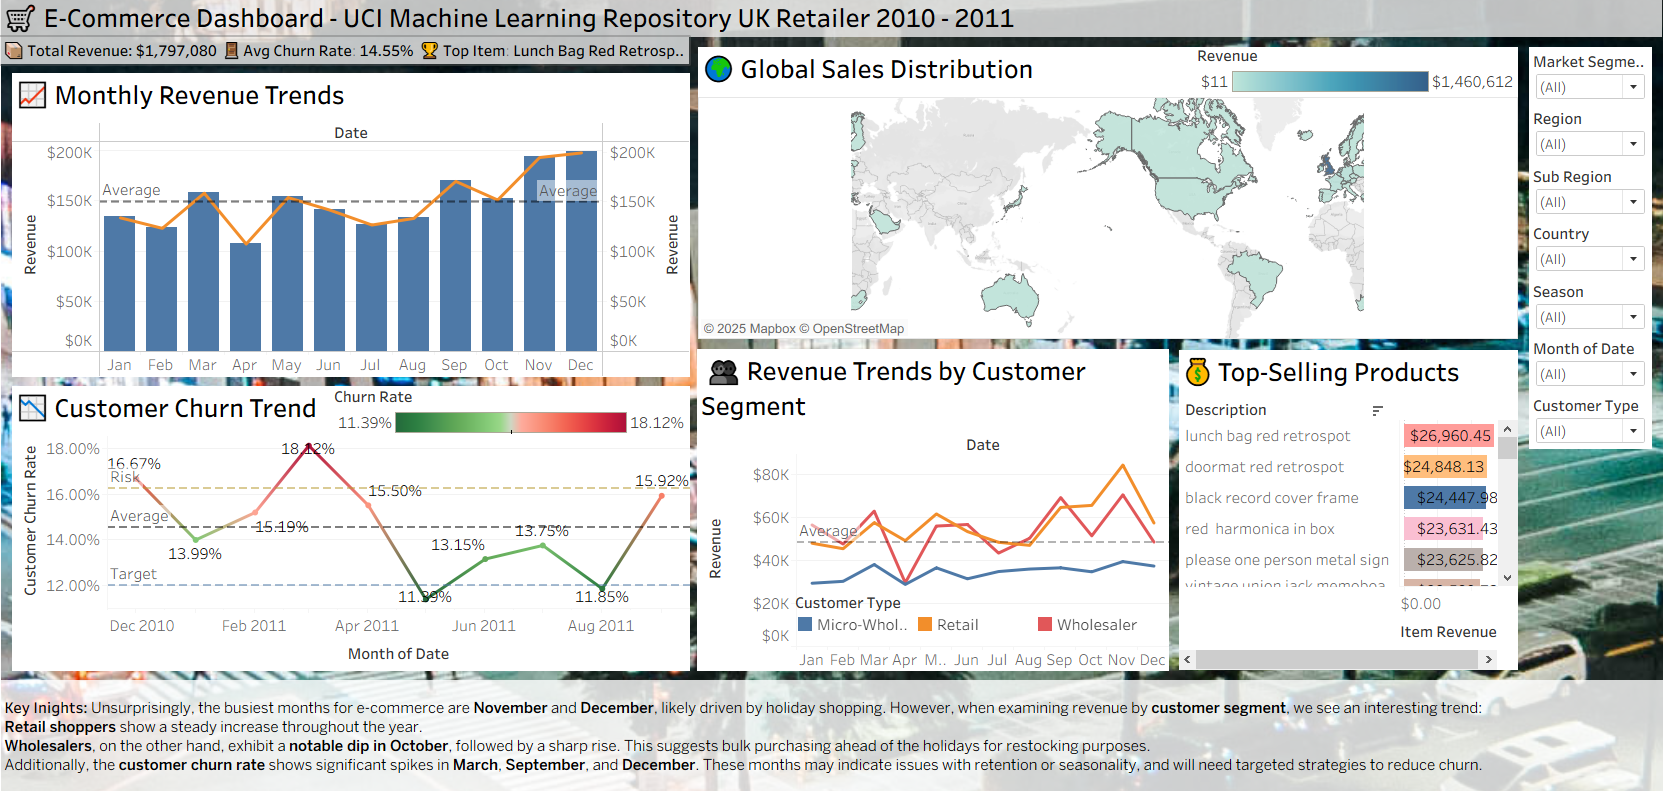

This screenshot's page, from the dashboard's own definition file:
{"tool":"tableau","page":{"name":"🛒 E-Commerce Dashboard - UCI Machine Learning Repository UK Retailer 2010 - 2011","canvas":[1000,1000],"units":"permille","ordinal":0},"visuals":[{"type":"title","box":[24.4,49.5,951,60.7]},{"type":"text","box":[24.4,110.2,951,35.9]},{"type":"text","box":[24.4,146.2,951,106.6]},{"type":"worksheet","title":"📈 Monthly Revenue Trends","mark":"Bar","rows":["total_spend","total_spend"],"cols":["invoice_date"],"box":[24.4,252.7,464.4,379]},{"type":"worksheet","title":"🌍 Global Sales Distribution","mark":"Automatic","box":[488.8,252.7,326.3,379]},{"type":"legend","title":"🌍 Global Sales Distribution","param":"[federated.0k7yjkx0o3joxv12v7ofb1jo00rf].[sum:total_spend:qk]","box":[815.1,252.7,62,379]},{"type":"filter","title":"📈 Monthly Revenue Trends","param":"[federated.0k7yjkx0o3joxv12v7ofb1jo00rf].[none:Calculation_551409513099952131:nk","box":[880.2,258.9,92.1,72.5]},{"type":"filter","title":"📈 Monthly Revenue Trends","param":"[federated.0k7yjkx0o3joxv12v7ofb1jo00rf].[none:region:nk]","box":[880.2,331.4,92.1,72.5]},{"type":"filter","title":"📈 Monthly Revenue Trends","param":"[federated.0k7yjkx0o3joxv12v7ofb1jo00rf].[none:sub_region:nk]","box":[880.2,403.9,92.1,72.5]},{"type":"filter","title":"📈 Monthly Revenue Trends","param":"[federated.0k7yjkx0o3joxv12v7ofb1jo00rf].[none:country:nk]","box":[880.2,476.4,92.1,72.5]},{"type":"filter","title":"📈 Monthly Revenue Trends","param":"[federated.0k7yjkx0o3joxv12v7ofb1jo00rf].[none:customer_type:nk]","box":[880.2,548.9,92.1,72.5]},{"type":"filter","title":"👥 Revenue Trends by Customer Segment","param":"[federated.0k7yjkx0o3joxv12v7ofb1jo00rf].[none:region:nk]","box":[880.2,621.4,92.1,72.5]},{"type":"worksheet","title":"📉 Customer Churn Trend","mark":"Automatic","rows":["Calculation_551409513081085952"],"cols":["invoice_date"],"box":[24.4,631.8,288.8,358.3]},{"type":"legend","title":"📉 Customer Churn Trend","param":"[federated.0k7yjkx0o3joxv12v7ofb1jo00rf].[usr:Calculation_551409513081085952:qk]","box":[313.2,631.8,79.3,182.8]},{"type":"worksheet","title":"👥 Revenue Trends by Customer Segment","mark":"Line","rows":["total_spend"],"cols":["invoice_date"],"box":[392.5,631.8,230.8,358.3]},{"type":"worksheet","title":"💰 Top-Selling Products","mark":"Automatic","rows":["description"],"cols":["total_spend"],"box":[623.3,631.8,253.8,358.3]},{"type":"filter","title":"👥 Revenue Trends by Customer Segment","param":"[federated.0k7yjkx0o3joxv12v7ofb1jo00rf].[none:sub_region:nk]","box":[880.2,693.9,92.1,72.5]},{"type":"filter","title":"👥 Revenue Trends by Customer Segment","param":"[federated.0k7yjkx0o3joxv12v7ofb1jo00rf].[none:country:nk]","box":[880.2,766.4,92.1,72.5]},{"type":"legend","title":"👥 Revenue Trends by Customer Segment","param":"[federated.0k7yjkx0o3joxv12v7ofb1jo00rf].[none:customer_type:nk]","box":[313.2,814.6,79.3,175.5]},{"type":"filter","title":"🌍 Global Sales Distribution","param":"[federated.0k7yjkx0o3joxv12v7ofb1jo00rf].[none:season:nk]","box":[880.2,838.9,92.1,72.5]},{"type":"filter","title":"🌍 Global Sales Distribution","param":"[federated.0k7yjkx0o3joxv12v7ofb1jo00rf].[mn:invoice_date:ok]","box":[880.2,911.4,92.1,72.5]}]}

Visuals, with their boxes on the dashboard's canvas, which has no fixed pixel size, in thousandths of its width and height (x1, y1, x2, y2). These are canvas units, not pixel positions in the 1663x793 screenshot, which may show the page scaled, cropped or inside an application window:
title: (x1=24, y1=50, x2=975, y2=110)
text: (x1=24, y1=110, x2=975, y2=146)
text: (x1=24, y1=146, x2=975, y2=253)
"📈 Monthly Revenue Trends" worksheet (Bar marks): (x1=24, y1=253, x2=489, y2=632)
"🌍 Global Sales Distribution" worksheet: (x1=489, y1=253, x2=815, y2=632)
"🌍 Global Sales Distribution" legend: (x1=815, y1=253, x2=877, y2=632)
"📈 Monthly Revenue Trends" filter: (x1=880, y1=259, x2=972, y2=331)
"📈 Monthly Revenue Trends" filter: (x1=880, y1=331, x2=972, y2=404)
"📈 Monthly Revenue Trends" filter: (x1=880, y1=404, x2=972, y2=476)
"📈 Monthly Revenue Trends" filter: (x1=880, y1=476, x2=972, y2=549)
"📈 Monthly Revenue Trends" filter: (x1=880, y1=549, x2=972, y2=621)
"👥 Revenue Trends by Customer Segment" filter: (x1=880, y1=621, x2=972, y2=694)
"📉 Customer Churn Trend" worksheet: (x1=24, y1=632, x2=313, y2=990)
"📉 Customer Churn Trend" legend: (x1=313, y1=632, x2=392, y2=815)
"👥 Revenue Trends by Customer Segment" worksheet (Line marks): (x1=392, y1=632, x2=623, y2=990)
"💰 Top-Selling Products" worksheet: (x1=623, y1=632, x2=877, y2=990)
"👥 Revenue Trends by Customer Segment" filter: (x1=880, y1=694, x2=972, y2=766)
"👥 Revenue Trends by Customer Segment" filter: (x1=880, y1=766, x2=972, y2=839)
"👥 Revenue Trends by Customer Segment" legend: (x1=313, y1=815, x2=392, y2=990)
"🌍 Global Sales Distribution" filter: (x1=880, y1=839, x2=972, y2=911)
"🌍 Global Sales Distribution" filter: (x1=880, y1=911, x2=972, y2=984)
